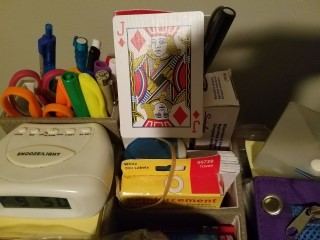JackOfDiamonds: (110, 11, 205, 140)
